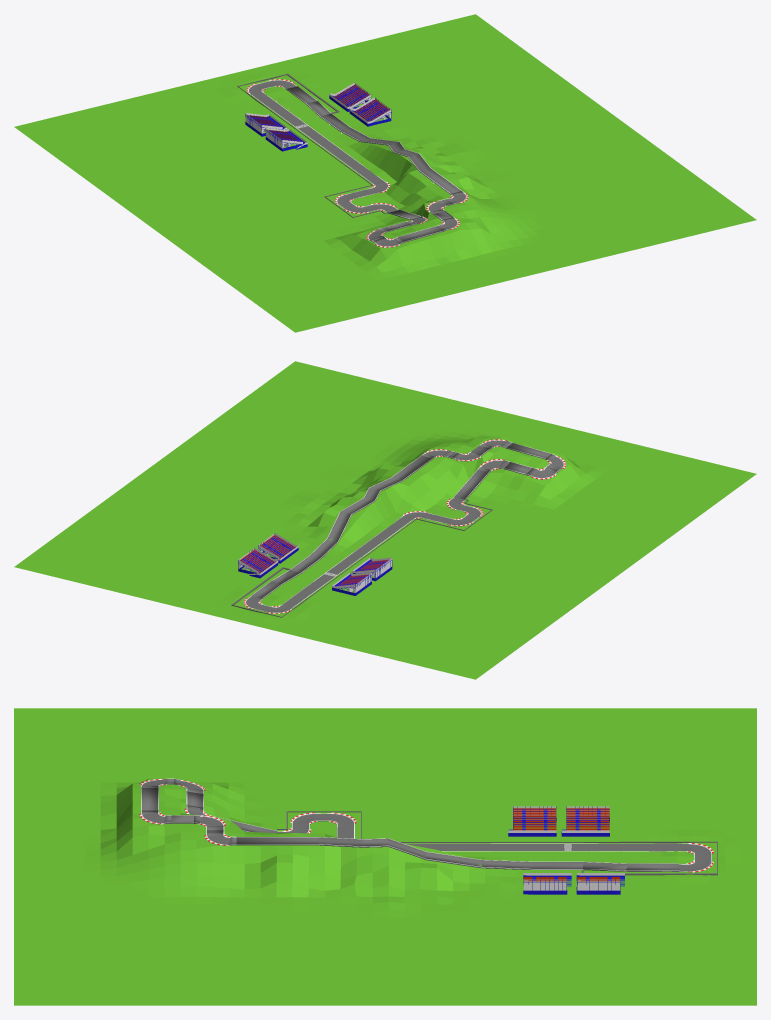
The model's file is RaceTrack3.fbx.
3 renders of one model, top to bottom at view 1: azimuth 30°, elevation 25°; view 2: azimuth 150°, elevation 25°; view 3: azimuth 270°, elevation 25°, orthographic. The views are drawn at different scales.
Visible parts, largest first — view 1: RaceTrack3; view 2: RaceTrack3; view 3: RaceTrack3.
Part boxes in pixels (x1,y1,x2,y2): RaceTrack3: [14, 14, 756, 332]; RaceTrack3: [14, 361, 756, 679]; RaceTrack3: [14, 708, 756, 1005].
Size of the model in its own units: 113081 by 5060 by 119304.
